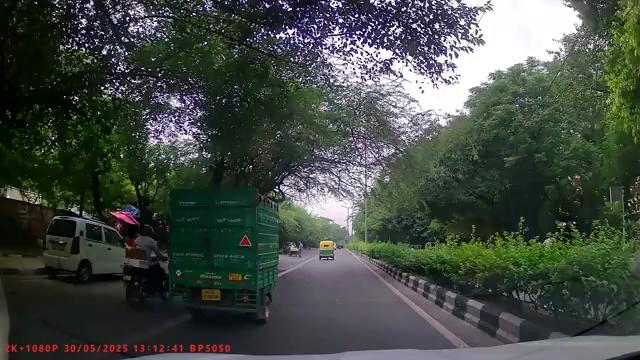motorcycle_with_helmet: (123, 222, 169, 307)
